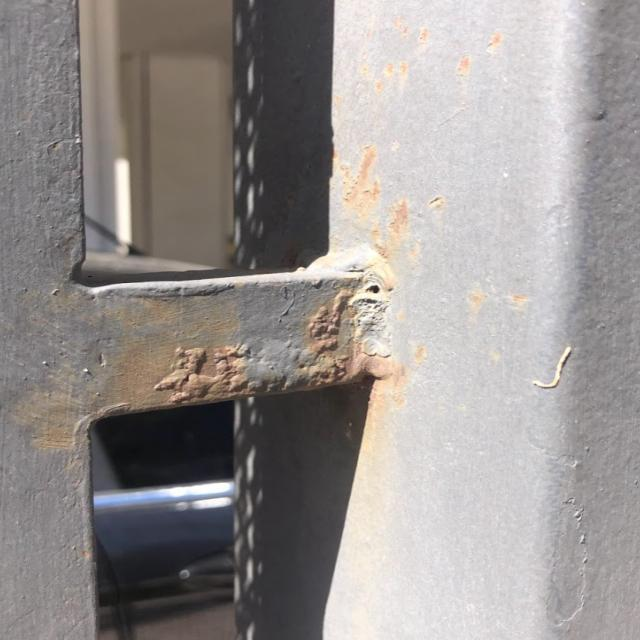Corrosion: (309, 290, 402, 388), (160, 342, 248, 402), (336, 140, 378, 210), (389, 195, 410, 237)
